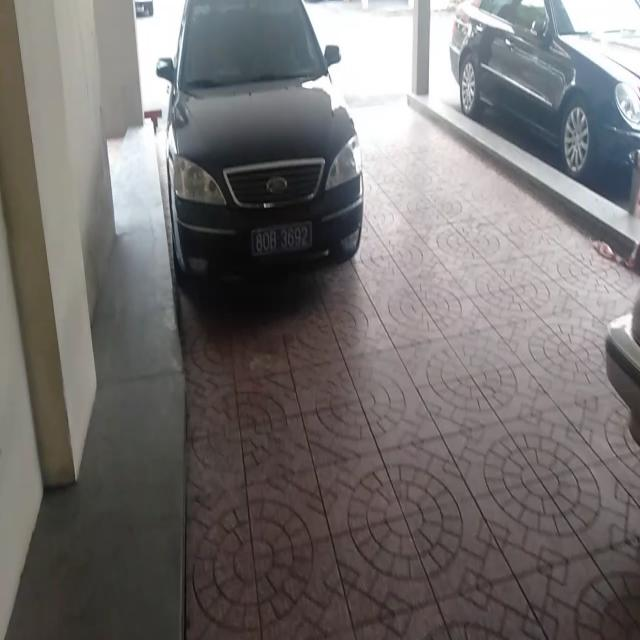bien_xanh: (251, 224, 314, 254)
